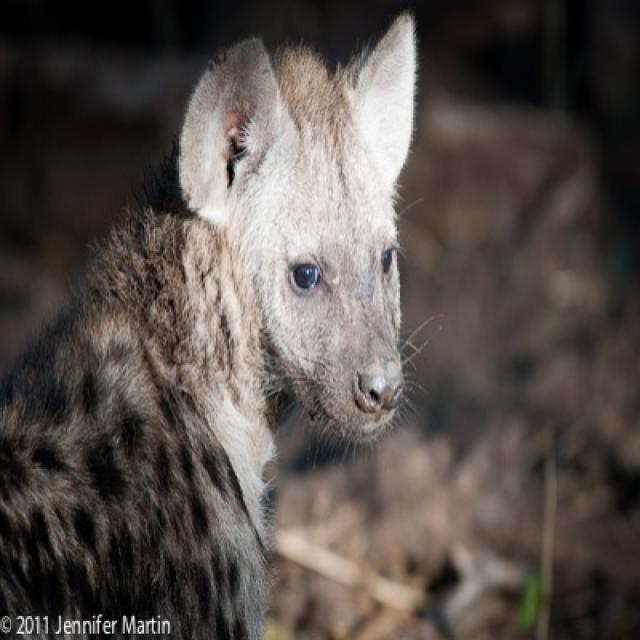hyena: (0, 13, 422, 638)
